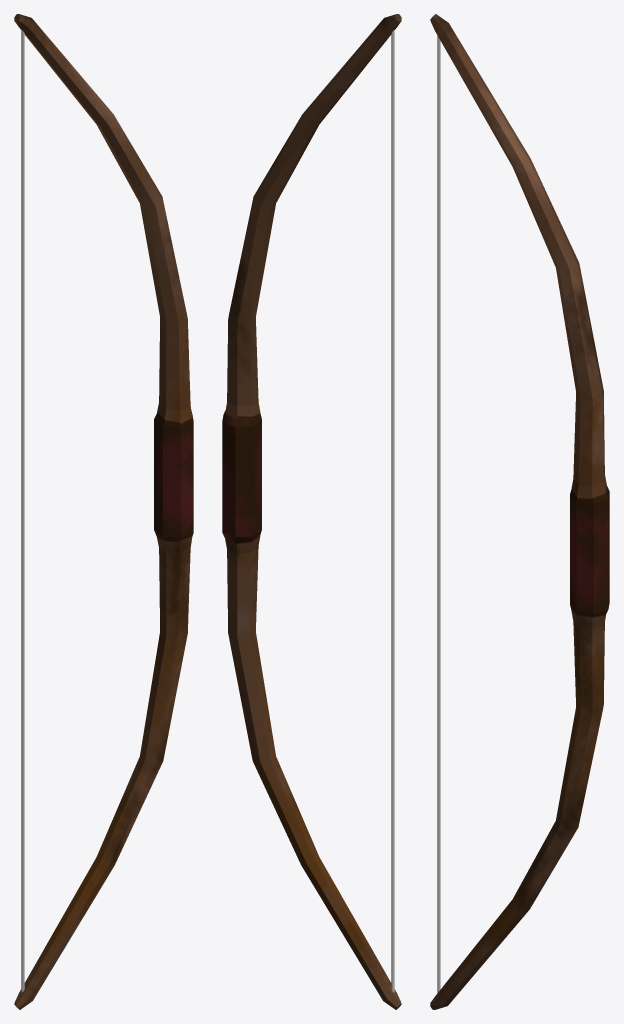
File: arco.fbx
The picture shows the model from 3 angles, left to right: view 1: azimuth 30°, elevation 25°; view 2: azimuth 150°, elevation 25°; view 3: azimuth 330°, elevation 25°; orthographic projection.
Parts seen in each view (by area): view 1: pCylinder2; view 2: pCylinder2; view 3: pCylinder2.
Boxes of the visible parts, x1=… form: pCylinder2: x1=14, y1=14, x2=193, y2=1009; pCylinder2: x1=222, y1=14, x2=401, y2=1009; pCylinder2: x1=430, y1=14, x2=609, y2=1009.
Size of the model in its own units: 9.92 by 53.24 by 1.95.
